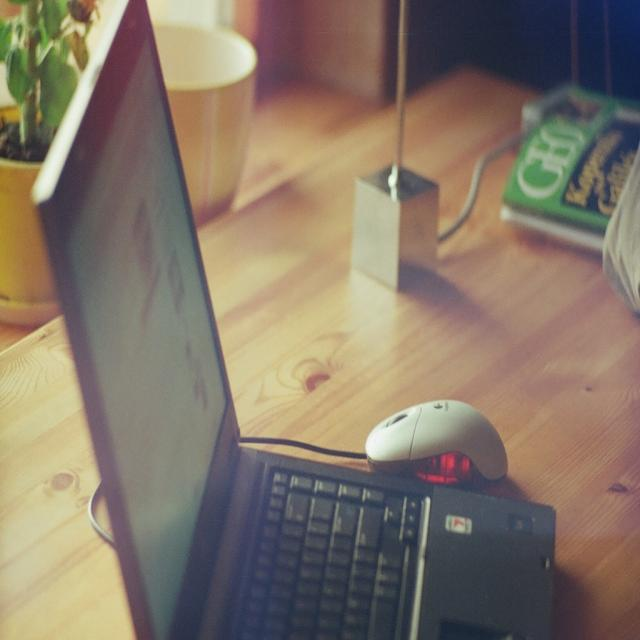desk: (0, 67, 639, 639)
laptop: (11, 23, 534, 626)
mouse: (366, 398, 509, 482)
